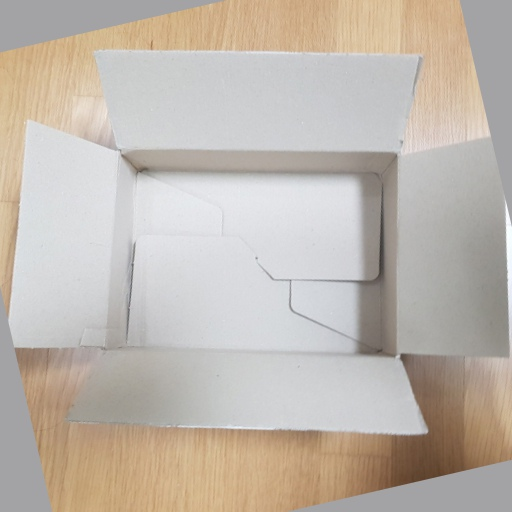Paper_0: (7, 46, 512, 439)
